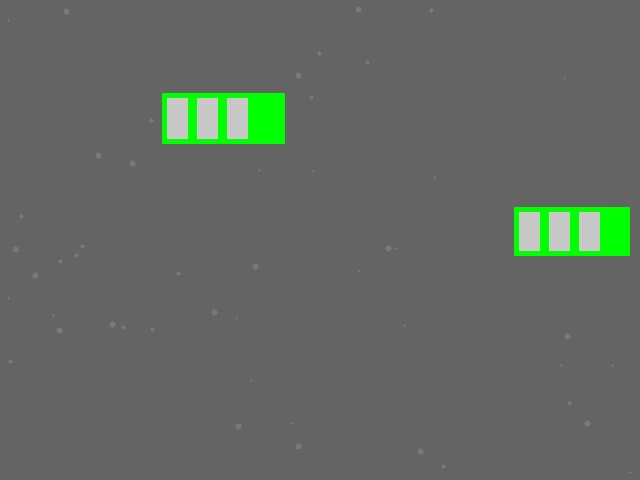bus: (162, 93, 284, 143), (514, 207, 629, 255)
